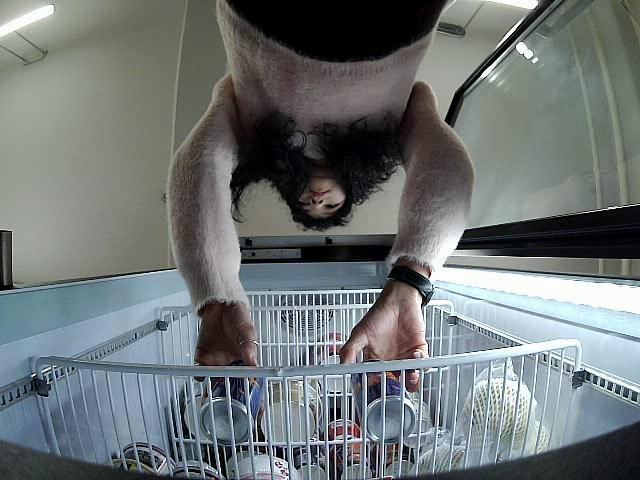16_hot6: (198, 361, 266, 446), (350, 359, 414, 442)
